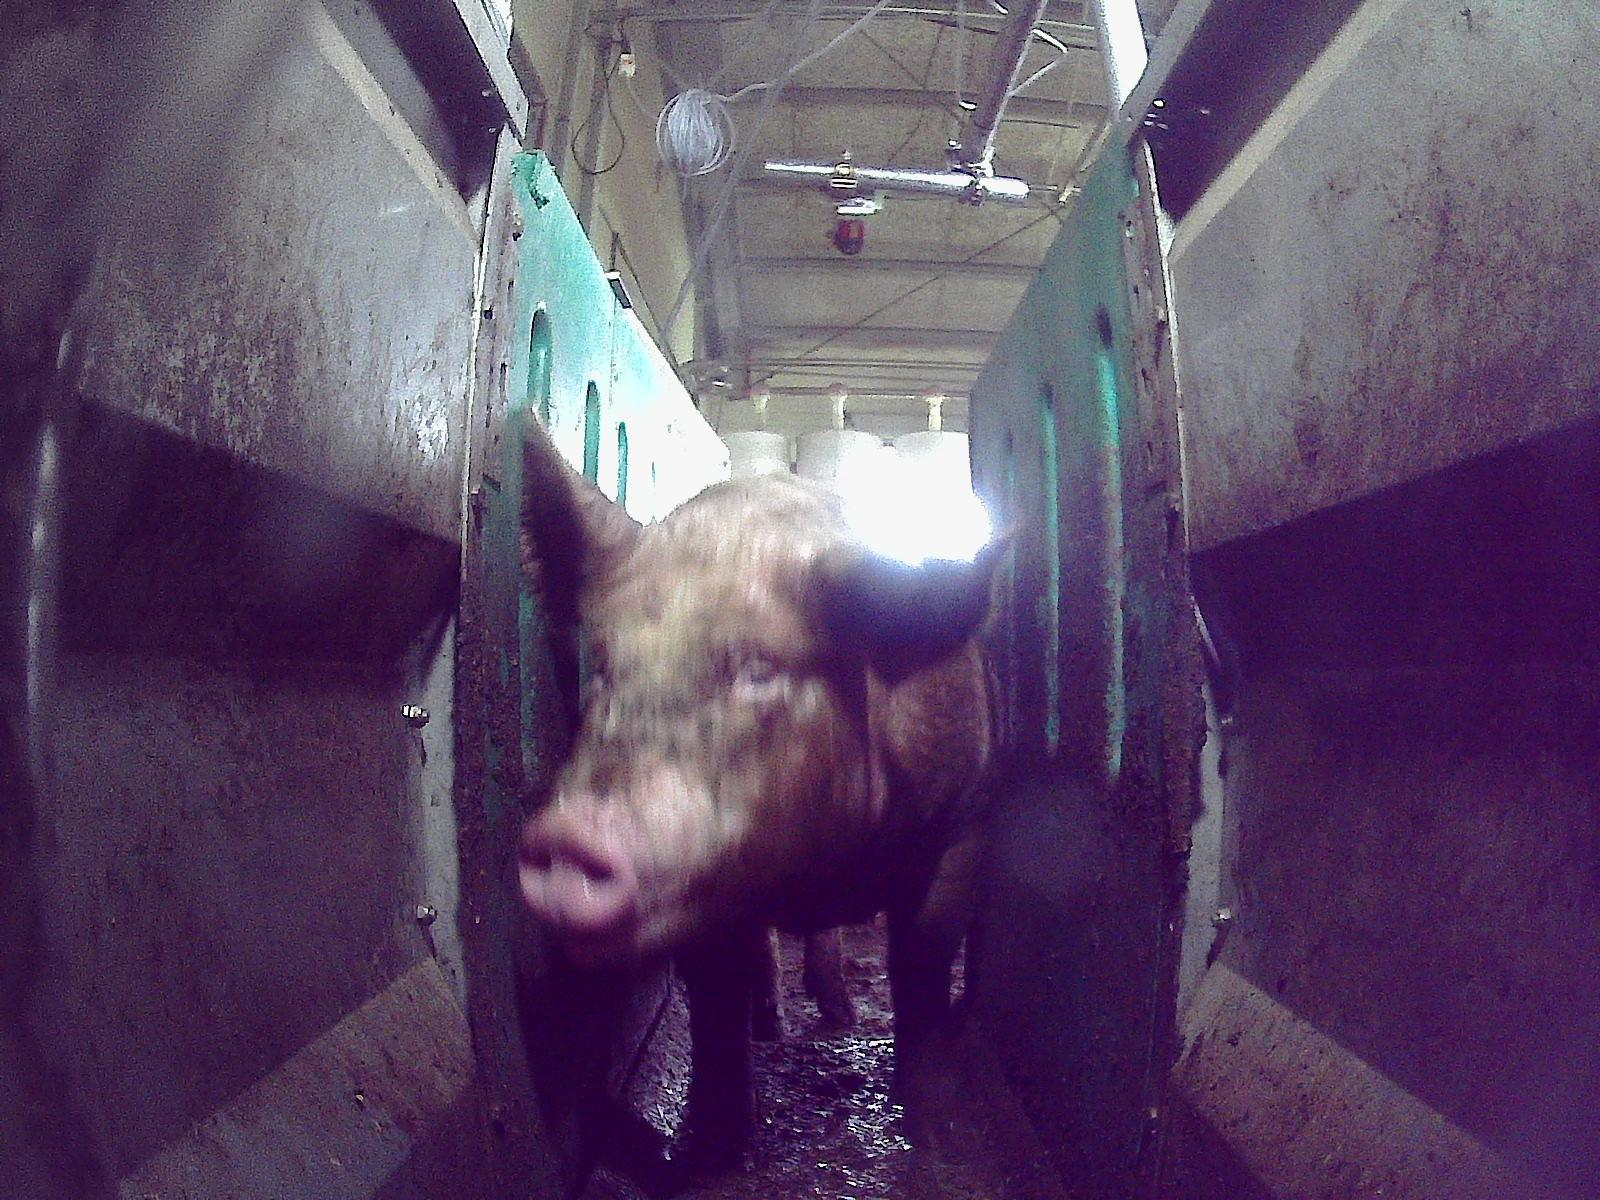Face: (517, 559, 868, 964)
